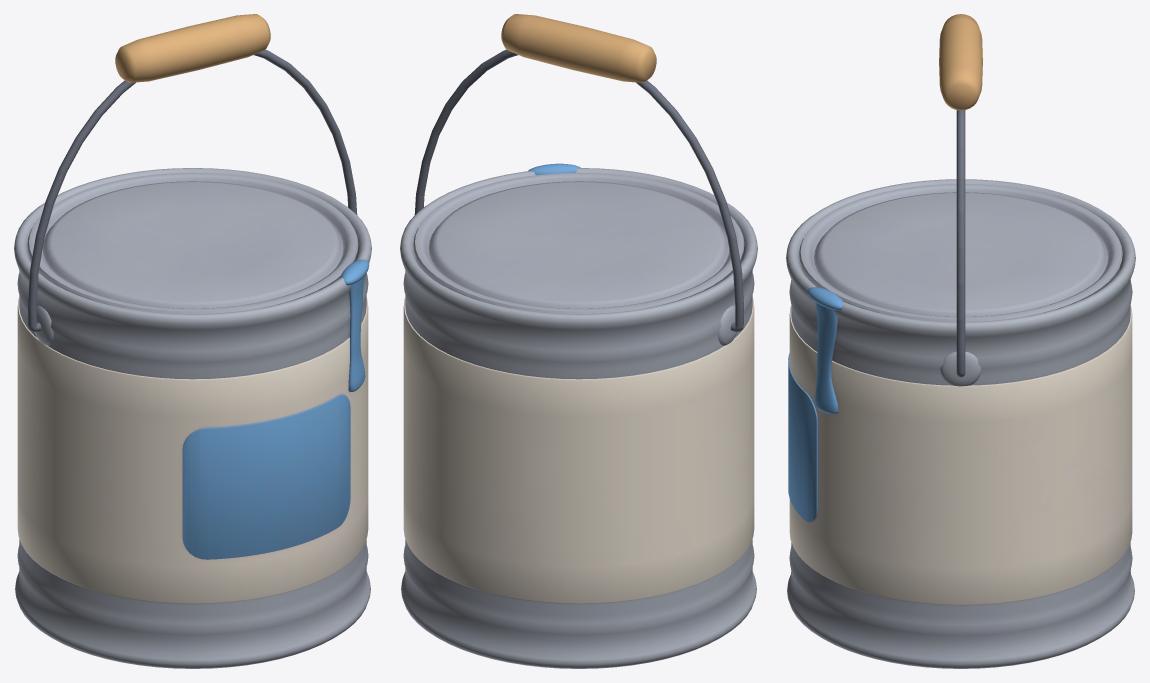
Rendered from paint-can.glb.
3 renders of one model, left to right at view 1: azimuth 30°, elevation 25°; view 2: azimuth 150°, elevation 25°; view 3: azimuth 270°, elevation 25°, orthographic. The views are drawn at different scales.
Visible parts, largest first — view 1: paint-can_body, paint-can_lid, paint-can_bail; view 2: paint-can_body, paint-can_lid, paint-can_bail; view 3: paint-can_body, paint-can_lid, paint-can_bail.
Boxes of the visible parts, left/top/right/bottom form: paint-can_body: left=14, top=168, right=371, bottom=668; paint-can_lid: left=27, top=172, right=358, bottom=313; paint-can_bail: left=28, top=14, right=357, bottom=331; paint-can_body: left=400, top=163, right=757, bottom=668; paint-can_lid: left=413, top=172, right=744, bottom=313; paint-can_bail: left=414, top=14, right=743, bottom=331; paint-can_body: left=786, top=179, right=1135, bottom=668; paint-can_lid: left=799, top=184, right=1122, bottom=321; paint-can_bail: left=939, top=14, right=982, bottom=377.
Size of the model in its own units: 0.186 by 0.307 by 0.1752.
Materials: 3 (3 with a texture image).
